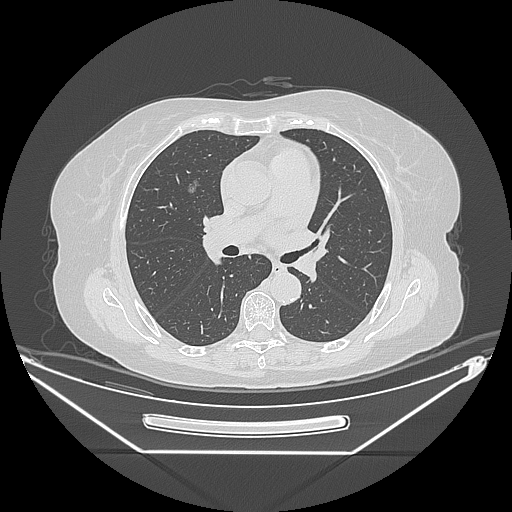nodule: (187, 178, 199, 193)
